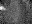person: (1, 6, 8, 10)
